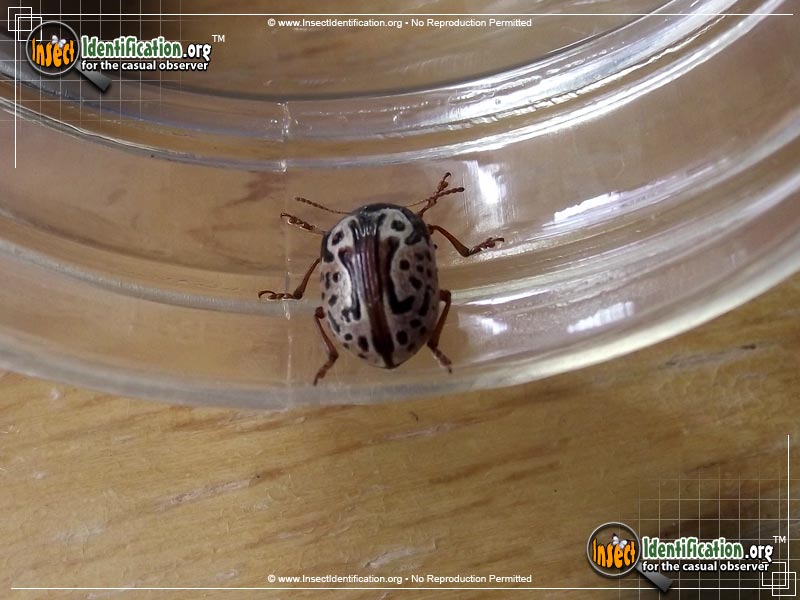Calligrapha Beetle: (242, 170, 503, 409)
